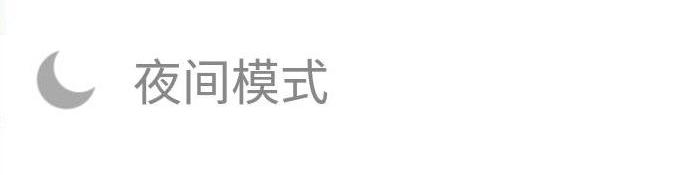CheckedTextView: (1, 1, 685, 174)
